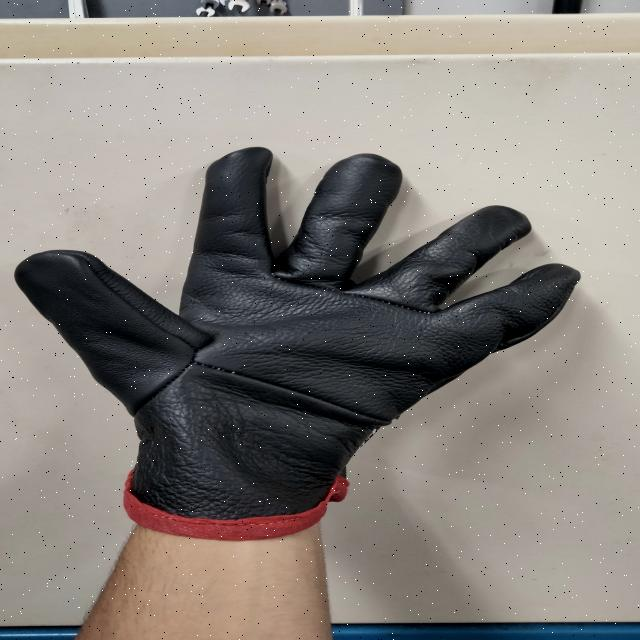Gloves: (10, 144, 567, 526)
